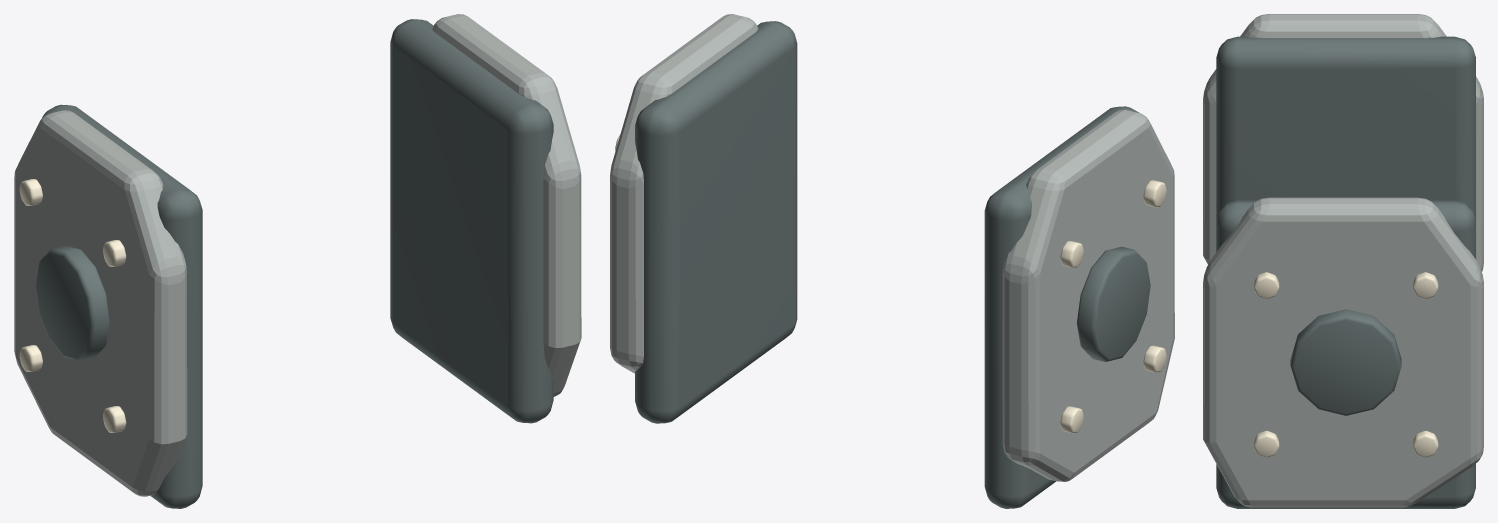
Rendered from enemy-warden-kit.glb.
3 views of the same model, side by side, from view 1: azimuth 30°, elevation 25°; view 2: azimuth 150°, elevation 25°; view 3: azimuth 270°, elevation 25° (orthographic). The views are drawn at different scales.
Parts seen in each view (by area): view 1: enemy-warden-kit_Gunmetal, enemy-warden-kit_Brushed steel, enemy-warden-kit_Warm ivory; view 2: enemy-warden-kit_Gunmetal, enemy-warden-kit_Brushed steel, enemy-warden-kit_Warm ivory; view 3: enemy-warden-kit_Brushed steel, enemy-warden-kit_Gunmetal, enemy-warden-kit_Warm ivory.
Boxes of the visible parts, x1,y1,x2,y2 form: enemy-warden-kit_Gunmetal: [35, 19, 553, 508]; enemy-warden-kit_Brushed steel: [14, 14, 581, 496]; enemy-warden-kit_Warm ivory: [19, 179, 126, 432]; enemy-warden-kit_Gunmetal: [635, 21, 1150, 508]; enemy-warden-kit_Brushed steel: [610, 14, 1174, 481]; enemy-warden-kit_Warm ivory: [615, 135, 1166, 433]; enemy-warden-kit_Brushed steel: [1203, 14, 1483, 507]; enemy-warden-kit_Gunmetal: [1216, 36, 1475, 508]; enemy-warden-kit_Warm ivory: [1254, 272, 1438, 457].
Bounding box in the file's own units: 0.97 × 0.655 × 0.53.
